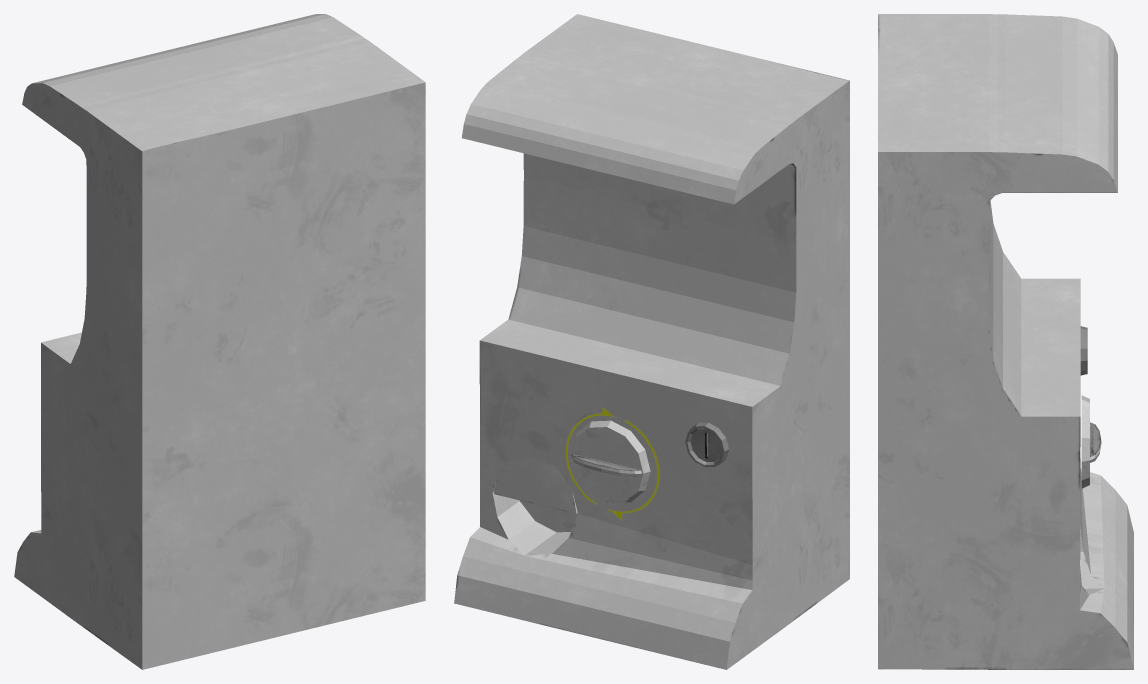
File: gachapon_texturizado_base.fbx
3 renders of one model, left to right at view 1: azimuth 30°, elevation 25°; view 2: azimuth 150°, elevation 25°; view 3: azimuth 270°, elevation 25°, orthographic. The views are drawn at different scales.
Visible parts, largest first — view 1: gachapon; view 2: gachapon; view 3: gachapon.
Part boxes in pixels (<box>): gachapon: <box>14,14,425,669</box>; gachapon: <box>454,14,849,669</box>; gachapon: <box>878,14,1133,669</box>.
Size of the model in its own units: 40.44 by 70.79 by 31.67.
1 material, 1 textured.
